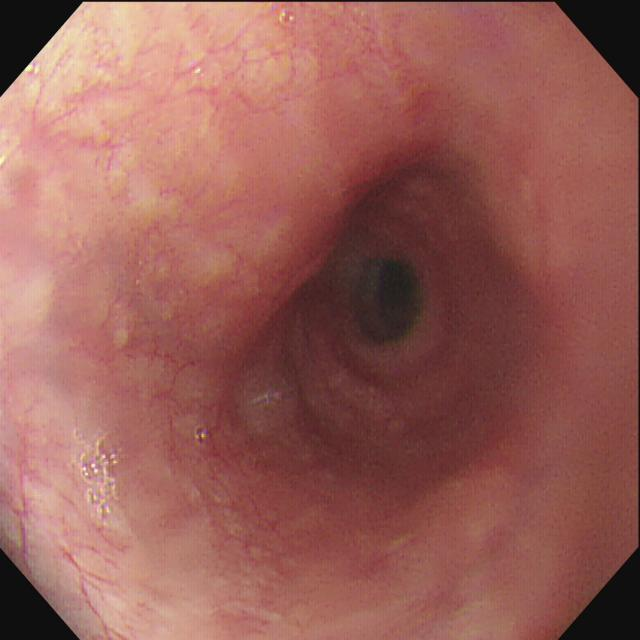E: (326, 244, 440, 361)
T: (71, 424, 127, 529), (278, 6, 303, 31), (195, 424, 213, 449)
